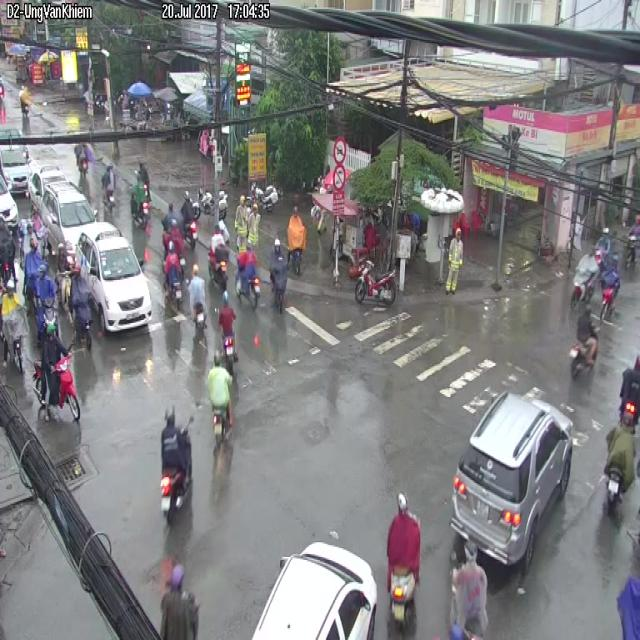car: (34, 324, 78, 421), (388, 492, 419, 628), (161, 406, 193, 521), (451, 541, 488, 639), (604, 410, 635, 511), (208, 350, 232, 446), (570, 310, 598, 376), (71, 253, 90, 338), (35, 262, 56, 336), (219, 299, 237, 373), (237, 247, 259, 307), (163, 241, 182, 310), (271, 237, 288, 313), (208, 231, 228, 289), (188, 265, 204, 329)
traffic-light: (451, 393, 573, 567), (252, 542, 377, 639), (78, 225, 151, 330), (36, 185, 120, 258), (0, 147, 31, 196), (31, 166, 68, 197)
